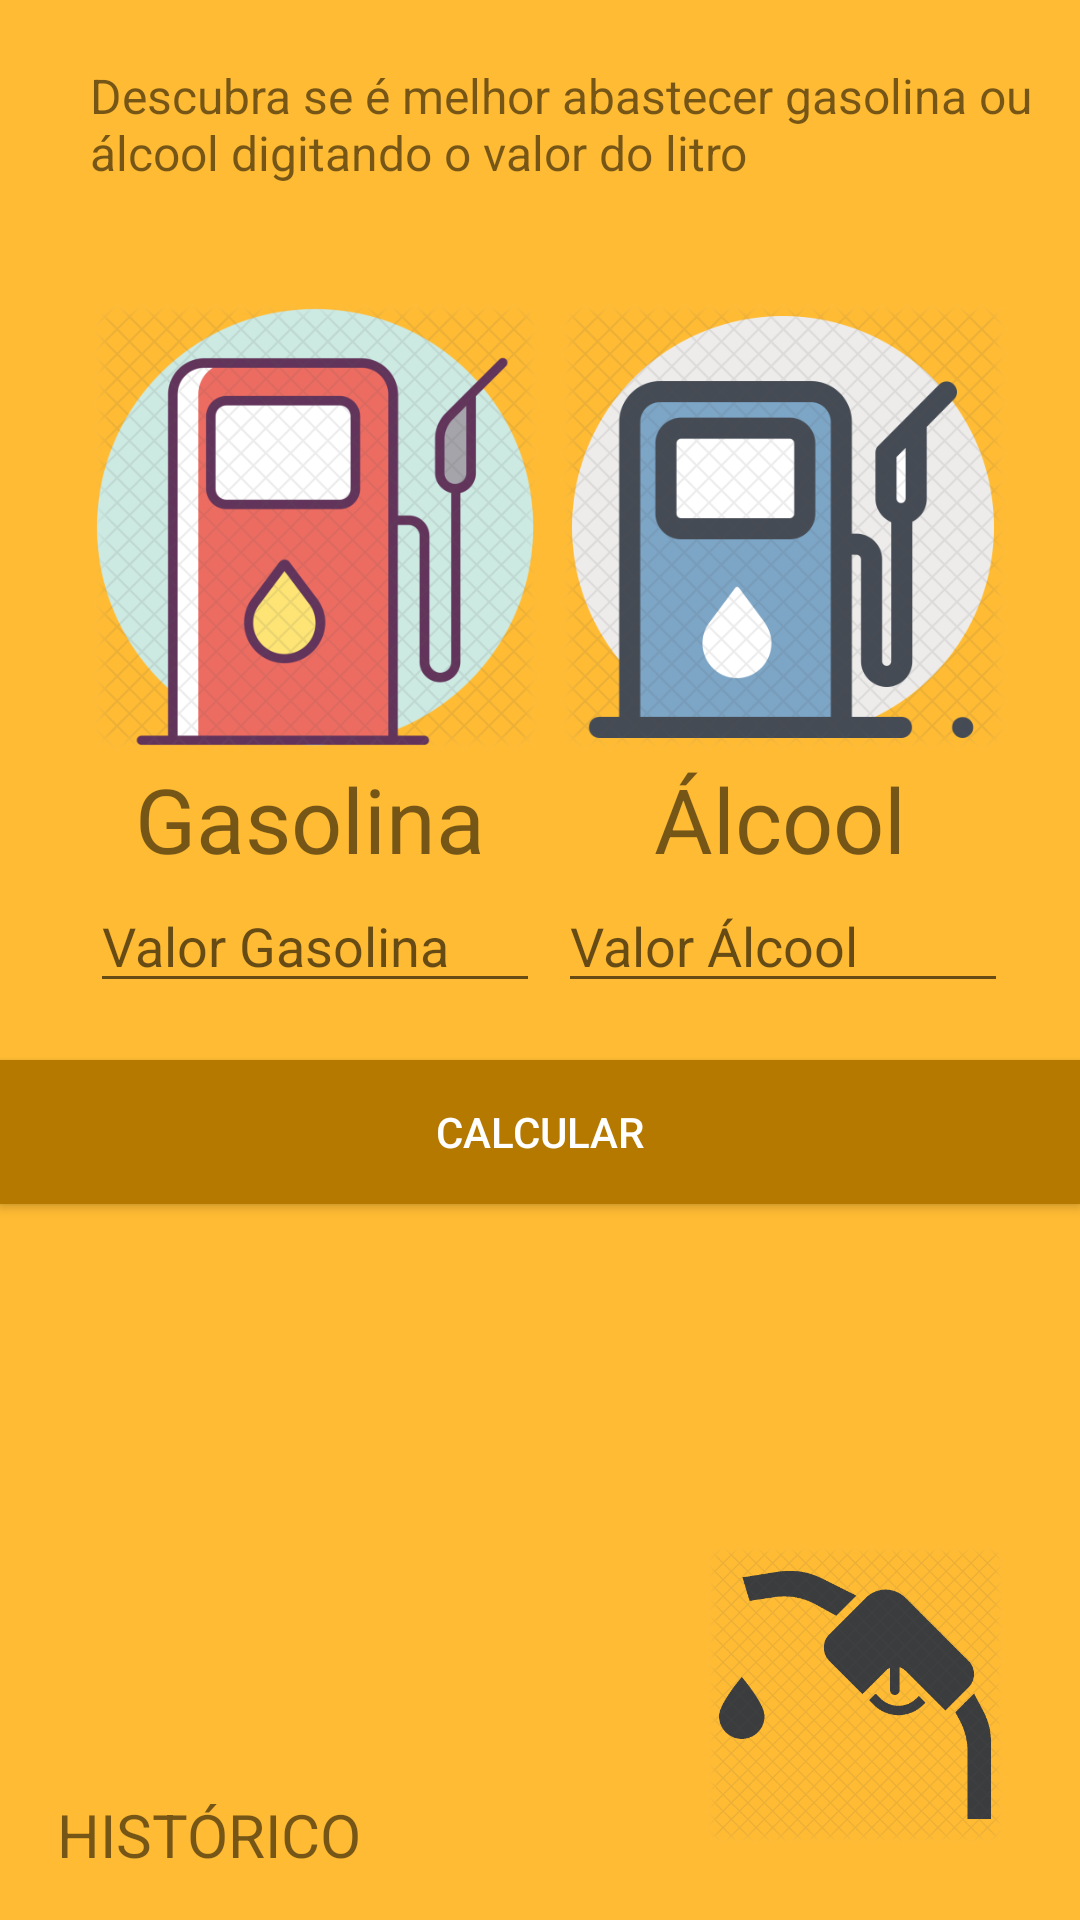

Icon bounding boxes for this 1080 × 1920 phone screenshot, format bbox=(x1, y1, x2, y2):
abastecer: bbox=(719, 1571, 991, 1819)
